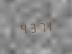four: (18, 21, 26, 34)
one: (45, 19, 53, 32)
seven: (36, 19, 44, 33)
three: (27, 20, 35, 34)
